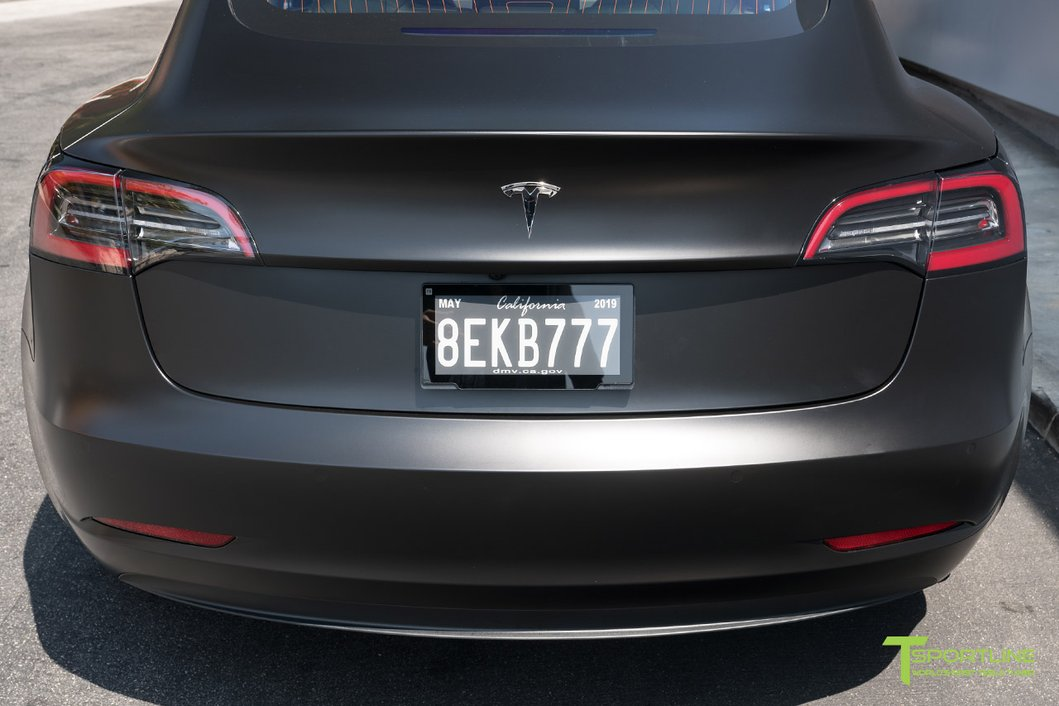license plate: (416, 278, 638, 393)
